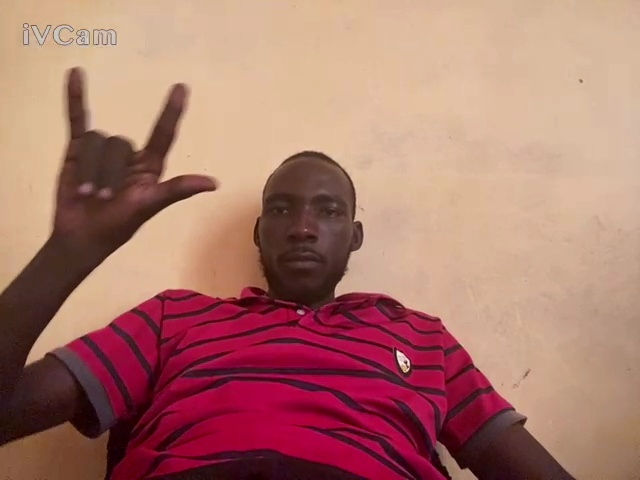je t'aime: (32, 53, 221, 252)
